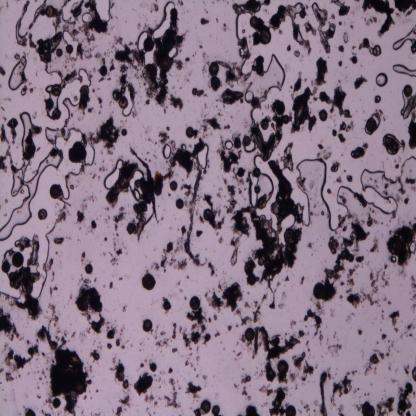Air bubble: (0, 144, 62, 244), (358, 154, 416, 216), (296, 154, 333, 229), (43, 96, 81, 154), (262, 52, 288, 101), (312, 1, 336, 54), (151, 2, 175, 39), (62, 161, 83, 201), (8, 52, 27, 91), (392, 24, 416, 52), (102, 159, 123, 188), (254, 174, 274, 200), (64, 30, 78, 61), (20, 110, 32, 146), (285, 3, 304, 25), (122, 84, 134, 117), (94, 0, 112, 22), (130, 170, 144, 198), (282, 143, 295, 172), (392, 64, 416, 78), (196, 142, 208, 170), (85, 141, 96, 169), (144, 45, 157, 66), (15, 14, 24, 42), (137, 30, 148, 51), (375, 73, 388, 87), (49, 94, 60, 109), (244, 141, 256, 152), (163, 142, 171, 158), (168, 46, 178, 58), (245, 91, 255, 103), (224, 139, 234, 150), (82, 13, 93, 22), (261, 118, 269, 130), (409, 242, 416, 254), (156, 65, 161, 80), (21, 84, 27, 96), (300, 10, 308, 19), (373, 95, 381, 103), (297, 32, 303, 42), (240, 48, 244, 57), (391, 256, 396, 262)
Background material: (250, 206, 304, 284), (49, 348, 90, 398), (267, 158, 296, 220), (251, 328, 300, 364), (105, 162, 139, 206), (364, 337, 400, 377), (385, 221, 416, 266), (361, 0, 394, 38), (154, 8, 179, 58), (90, 115, 121, 155), (75, 273, 105, 313), (318, 86, 352, 120), (292, 86, 316, 133), (82, 0, 108, 36), (25, 0, 50, 35), (7, 268, 42, 292), (138, 64, 157, 107), (350, 214, 370, 254), (289, 353, 316, 381), (216, 148, 242, 175), (36, 323, 62, 350), (13, 343, 38, 371), (168, 150, 196, 175), (24, 124, 42, 162), (0, 308, 20, 342), (153, 166, 174, 197), (223, 284, 244, 314), (232, 208, 251, 241), (322, 255, 345, 282), (16, 295, 40, 320), (269, 385, 288, 416), (304, 308, 325, 336), (332, 371, 353, 398), (397, 381, 413, 416), (132, 202, 148, 234), (114, 47, 144, 64), (384, 134, 408, 155), (134, 371, 154, 396), (36, 35, 55, 61), (225, 60, 243, 87), (268, 113, 284, 143), (152, 326, 172, 350), (399, 92, 416, 120), (267, 4, 285, 30), (288, 67, 304, 96), (157, 70, 168, 112), (87, 311, 107, 334), (160, 241, 174, 273), (229, 237, 243, 268), (243, 259, 259, 286), (233, 0, 260, 16), (361, 38, 382, 58), (185, 306, 207, 325), (359, 289, 381, 308), (64, 393, 82, 416), (346, 262, 360, 290), (0, 146, 15, 172), (64, 19, 82, 40), (205, 288, 222, 310), (226, 184, 238, 214), (43, 302, 58, 326), (376, 396, 394, 416), (231, 165, 248, 186), (324, 278, 338, 303), (109, 358, 124, 381), (315, 57, 326, 88), (5, 118, 18, 144), (395, 0, 416, 16), (164, 391, 182, 409), (345, 290, 363, 308), (369, 267, 384, 288), (332, 0, 350, 17), (186, 381, 202, 400), (267, 281, 277, 311), (62, 69, 79, 86), (251, 54, 264, 76), (0, 122, 11, 147), (14, 236, 31, 252), (53, 8, 63, 35), (69, 0, 84, 17), (203, 115, 221, 129), (250, 300, 260, 324), (239, 334, 254, 350), (353, 192, 368, 208), (160, 294, 173, 312), (119, 390, 132, 408), (170, 94, 183, 112), (238, 36, 249, 57), (182, 331, 194, 350), (342, 236, 356, 252), (112, 85, 125, 102), (119, 64, 129, 86), (176, 35, 188, 53), (408, 122, 416, 149), (3, 348, 15, 366), (170, 258, 188, 270), (291, 19, 301, 40), (328, 343, 342, 358), (175, 235, 185, 256), (232, 130, 243, 149), (389, 309, 400, 328), (356, 142, 369, 158), (113, 206, 125, 223), (353, 76, 367, 90), (367, 214, 381, 228), (260, 382, 274, 396), (305, 22, 318, 37), (191, 86, 206, 99), (334, 128, 346, 144), (245, 404, 261, 416), (182, 181, 194, 197), (329, 235, 339, 254), (397, 177, 406, 196), (204, 192, 214, 209), (372, 107, 382, 124), (256, 18, 268, 32), (42, 392, 54, 406), (216, 98, 237, 106), (158, 131, 170, 145), (381, 270, 389, 291), (87, 218, 98, 233), (79, 95, 90, 110), (61, 328, 70, 346), (169, 322, 178, 340), (28, 34, 38, 50), (109, 251, 119, 267), (114, 36, 127, 48), (107, 326, 118, 340), (240, 371, 251, 385), (216, 217, 227, 231), (45, 257, 55, 272), (82, 132, 94, 144), (252, 31, 261, 47), (316, 298, 325, 314), (85, 192, 97, 204), (190, 332, 203, 343), (346, 248, 356, 262), (5, 293, 15, 307), (199, 122, 209, 136), (317, 151, 332, 160), (240, 314, 251, 326), (173, 59, 184, 71), (4, 370, 15, 382), (300, 39, 311, 51), (78, 330, 88, 343), (77, 44, 85, 60), (77, 208, 85, 224), (297, 176, 306, 190), (345, 312, 356, 323), (330, 161, 340, 173), (168, 377, 176, 392), (277, 373, 289, 383), (80, 249, 88, 264), (398, 268, 408, 280), (355, 256, 367, 266), (214, 186, 224, 198), (254, 366, 264, 378), (149, 2, 159, 14), (409, 275, 416, 292), (338, 213, 345, 229), (363, 16, 377, 24), (219, 135, 226, 151), (212, 214, 219, 230), (372, 237, 379, 253), (48, 285, 58, 296), (298, 329, 309, 339), (149, 261, 160, 271), (208, 262, 215, 277), (58, 211, 66, 224), (338, 403, 346, 416), (82, 310, 92, 320), (143, 393, 153, 403), (1, 340, 10, 351), (410, 38, 416, 54), (204, 334, 212, 346), (54, 237, 66, 245), (330, 394, 337, 407), (201, 16, 210, 26), (192, 407, 202, 416), (404, 322, 414, 331), (346, 122, 355, 132), (30, 109, 38, 120), (346, 173, 354, 184), (86, 33, 94, 44), (22, 402, 29, 414), (0, 66, 7, 78), (218, 280, 225, 292), (342, 30, 349, 42), (409, 302, 416, 314), (384, 183, 390, 197), (110, 60, 117, 72), (288, 319, 297, 328), (244, 74, 252, 84), (402, 196, 410, 206), (405, 177, 415, 185), (338, 121, 346, 131), (115, 406, 123, 416), (41, 408, 51, 416), (184, 198, 192, 208), (98, 95, 104, 108), (103, 213, 110, 224), (242, 385, 249, 396), (85, 48, 92, 59), (79, 202, 88, 210), (304, 402, 310, 414), (120, 326, 126, 338), (171, 139, 177, 151), (352, 149, 360, 158), (70, 330, 78, 339), (340, 195, 348, 204), (326, 187, 334, 196), (411, 367, 416, 381), (261, 292, 268, 302), (192, 323, 202, 330), (403, 365, 410, 375), (334, 177, 344, 184), (319, 329, 323, 346), (68, 292, 74, 303), (41, 368, 47, 379), (338, 45, 346, 53), (89, 172, 97, 180), (196, 229, 204, 237), (367, 206, 375, 214), (90, 349, 98, 357), (142, 22, 150, 30), (409, 292, 416, 301), (293, 49, 300, 58), (171, 347, 180, 354), (148, 26, 154, 36), (356, 402, 362, 412), (194, 128, 199, 140), (116, 248, 123, 256), (380, 333, 388, 340), (132, 65, 140, 72), (176, 0, 184, 7), (327, 366, 331, 380), (278, 302, 286, 309), (312, 399, 319, 407), (218, 235, 223, 246), (89, 411, 100, 416), (96, 51, 102, 60), (0, 103, 6, 112), (200, 216, 206, 225), (98, 340, 103, 350), (222, 22, 227, 32), (30, 85, 35, 95), (181, 224, 186, 234), (393, 164, 400, 171), (317, 143, 324, 150), (282, 274, 288, 282), (98, 166, 106, 172), (350, 369, 358, 375), (245, 300, 251, 308), (405, 408, 411, 416), (202, 64, 206, 76), (234, 383, 240, 391), (306, 340, 310, 352), (236, 352, 242, 360), (260, 401, 268, 407), (180, 143, 186, 151), (286, 44, 292, 52), (61, 127, 66, 136), (87, 377, 92, 386), (136, 21, 141, 30), (196, 207, 200, 218), (51, 270, 55, 281), (300, 274, 304, 285), (391, 377, 397, 384), (320, 210, 326, 217), (184, 360, 190, 367), (217, 209, 223, 216), (265, 102, 270, 110), (113, 242, 117, 252), (108, 281, 113, 289), (116, 339, 121, 347), (196, 355, 201, 363), (145, 98, 150, 106), (380, 313, 385, 321), (238, 186, 243, 194), (81, 166, 86, 174), (6, 0, 10, 10), (223, 178, 228, 186), (188, 351, 193, 359), (18, 335, 24, 341), (294, 382, 298, 391), (213, 312, 217, 321), (202, 169, 208, 175), (408, 332, 414, 338), (166, 191, 172, 197), (94, 388, 100, 394), (335, 79, 341, 85), (289, 113, 293, 122), (364, 400, 370, 406), (134, 74, 140, 80), (88, 108, 95, 113), (339, 294, 344, 301), (214, 333, 221, 338), (223, 124, 230, 129), (347, 211, 352, 218), (179, 326, 183, 334), (123, 389, 131, 393), (393, 211, 397, 219), (343, 224, 347, 232), (228, 324, 232, 332), (126, 42, 134, 46), (384, 262, 388, 270), (203, 52, 207, 60), (35, 70, 39, 78), (159, 370, 164, 376), (107, 343, 112, 349), (203, 374, 208, 380), (27, 80, 32, 86), (88, 73, 93, 79), (103, 236, 108, 242), (66, 235, 71, 241), (101, 252, 107, 257), (207, 159, 210, 169), (305, 5, 310, 11), (184, 57, 190, 62), (308, 295, 312, 302), (339, 61, 343, 68), (394, 326, 398, 333), (202, 325, 206, 332), (146, 405, 150, 412), (122, 305, 126, 312), (70, 183, 74, 190), (333, 330, 336, 339), (154, 401, 159, 406), (38, 376, 43, 381), (140, 363, 145, 368), (119, 275, 124, 280), (176, 280, 181, 285), (166, 126, 171, 131), (340, 281, 345, 286), (265, 0, 270, 5), (357, 330, 362, 335), (383, 296, 387, 302), (104, 51, 108, 57), (169, 368, 173, 374), (209, 316, 212, 324), (183, 294, 187, 300), (332, 14, 336, 20), (42, 352, 46, 358), (353, 387, 357, 393), (36, 393, 40, 399), (0, 366, 4, 372), (196, 344, 199, 352), (308, 242, 312, 248), (203, 103, 207, 109), (242, 28, 246, 34), (246, 396, 252, 400), (350, 25, 354, 31), (237, 412, 243, 416), (102, 58, 106, 64), (197, 196, 200, 203), (413, 391, 416, 398), (388, 300, 392, 305), (186, 275, 190, 280), (400, 334, 404, 339), (84, 396, 88, 401), (235, 323, 239, 328), (4, 199, 8, 204), (378, 328, 382, 333), (3, 212, 7, 217), (104, 208, 109, 212), (188, 144, 193, 148), (99, 78, 104, 82), (215, 232, 220, 236), (300, 400, 304, 405), (240, 99, 244, 104), (190, 362, 193, 368), (279, 29, 282, 35), (116, 232, 119, 238), (353, 0, 359, 3), (37, 384, 40, 390), (115, 223, 118, 229), (315, 363, 318, 369), (111, 2, 114, 8), (339, 20, 342, 26), (195, 374, 199, 378), (380, 310, 384, 314), (90, 364, 92, 372), (264, 10, 268, 14), (148, 138, 152, 142), (111, 45, 115, 49), (178, 386, 182, 390), (121, 345, 125, 349), (153, 373, 157, 377), (107, 77, 111, 81), (215, 18, 219, 22), (229, 114, 233, 118), (352, 46, 356, 50), (51, 359, 54, 364), (94, 277, 97, 282), (148, 411, 151, 416), (299, 409, 302, 414), (27, 340, 30, 345), (18, 374, 21, 379), (82, 111, 85, 116), (74, 97, 77, 102), (70, 113, 73, 118), (244, 186, 247, 191), (123, 247, 127, 250), (193, 368, 196, 372), (159, 385, 162, 389), (218, 112, 221, 116), (115, 15, 118, 19), (92, 88, 95, 92), (55, 251, 58, 255), (161, 217, 164, 221), (139, 342, 142, 346), (144, 157, 148, 160), (107, 321, 111, 324), (226, 1, 229, 5), (207, 62, 210, 66), (204, 94, 208, 97), (146, 268, 148, 273), (332, 375, 334, 380), (142, 360, 147, 362), (177, 379, 179, 384), (149, 158, 151, 163), (153, 412, 156, 415), (412, 326, 415, 329), (169, 226, 172, 229), (146, 151, 149, 154), (284, 332, 287, 335), (139, 349, 142, 352), (211, 1, 214, 4), (216, 0, 219, 3), (186, 10, 189, 13), (358, 396, 362, 398), (223, 347, 225, 351), (159, 378, 161, 382), (236, 341, 238, 345), (155, 142, 157, 146), (178, 414, 182, 416), (28, 371, 30, 375), (4, 398, 6, 402), (206, 10, 208, 14), (200, 45, 202, 49), (335, 372, 337, 376), (136, 42, 138, 46), (358, 388, 360, 391), (409, 292, 411, 295), (414, 318, 416, 321), (233, 350, 235, 353), (0, 381, 2, 384), (405, 335, 408, 337), (204, 8, 206, 11), (364, 393, 366, 396), (313, 410, 316, 412), (370, 384, 373, 386), (90, 397, 92, 400), (368, 393, 370, 396), (336, 367, 338, 370), (192, 54, 194, 56), (155, 0, 157, 2), (77, 238, 79, 240), (125, 20, 127, 22), (405, 332, 407, 334), (180, 87, 182, 89), (327, 338, 329, 340), (384, 390, 386, 392), (414, 414, 416, 415), (203, 1, 204, 3)
Cellulose filter fibre: (183, 168, 202, 265), (320, 372, 328, 416)
Cotton: (134, 152, 159, 222)
Diatom: (250, 123, 266, 153), (263, 132, 277, 160), (48, 31, 63, 53), (142, 272, 156, 292), (222, 90, 244, 100), (259, 28, 272, 44), (12, 251, 24, 268), (31, 242, 39, 265), (277, 360, 290, 374), (160, 56, 172, 71), (314, 283, 325, 299), (362, 404, 376, 416), (200, 399, 212, 413), (50, 184, 61, 199), (366, 118, 377, 133), (244, 328, 256, 341), (284, 227, 294, 242), (211, 75, 221, 90), (285, 404, 297, 416), (143, 319, 153, 333), (75, 381, 85, 395), (0, 260, 10, 274), (191, 296, 201, 310), (318, 109, 328, 122), (275, 101, 285, 114), (45, 5, 55, 18), (217, 60, 230, 70), (144, 38, 154, 51), (209, 61, 219, 74), (118, 96, 128, 109), (80, 84, 90, 96), (404, 84, 414, 96), (52, 397, 62, 409), (266, 368, 276, 380), (79, 299, 88, 312), (52, 84, 61, 96), (99, 65, 108, 77), (185, 126, 194, 138), (84, 263, 93, 275), (38, 208, 47, 220), (212, 404, 221, 416), (126, 222, 134, 235), (204, 208, 212, 221), (70, 389, 78, 401), (252, 96, 260, 108), (53, 108, 61, 120), (46, 98, 54, 110), (250, 16, 259, 26), (170, 180, 178, 191), (176, 198, 184, 209), (242, 135, 250, 146), (282, 115, 290, 125), (66, 44, 74, 54), (122, 378, 129, 389), (254, 166, 260, 178), (44, 51, 52, 60), (150, 362, 157, 372), (246, 81, 252, 92), (340, 251, 348, 259), (57, 48, 63, 57), (27, 410, 36, 416), (94, 352, 100, 360), (351, 56, 357, 64), (118, 372, 124, 380), (122, 128, 128, 136)
